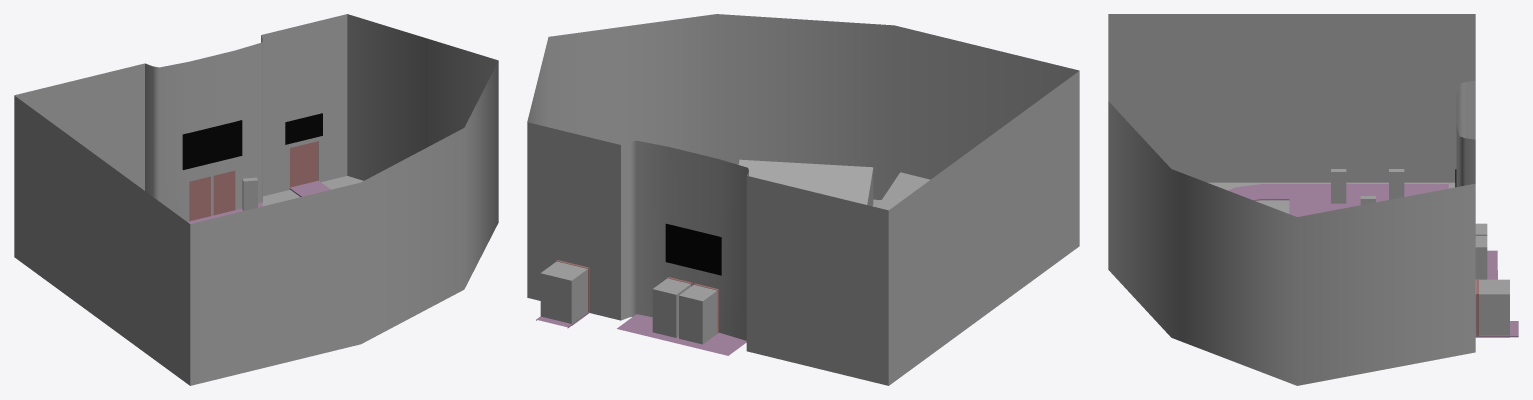
File: Mockup Set.fbx
The picture shows the model from 3 angles, left to right: view 1: azimuth 30°, elevation 25°; view 2: azimuth 150°, elevation 25°; view 3: azimuth 270°, elevation 25°; orthographic projection. The views are drawn at different scales.
Parts seen in each view (by area): view 1: Mockup_Set_Walls, Mockup_Set_Main_Screen, Mockup_Set_Back_Door, Mockup_Set_Right_Door, Mockup_Set_Left_Door, Mockup_Set_Back_Screen, Mockup_Set_Moving_Path, Host_Pos; view 2: Mockup_Set_Walls, Audience_Pos_2, Mockup_Set_Main_Screen, Mockup_Set_Moving_Path, Audience_Pos_1; view 3: Mockup_Set_Walls, Mockup_Set_Moving_Path, NPC_Pos_Mini_Game_1, NPC_Pos_Mini_Game_2.
Part boxes in pixels (x1=…): Mockup_Set_Walls: x1=14, y1=14, x2=498, y2=385; Mockup_Set_Main_Screen: x1=182, y1=120, x2=242, y2=169; Mockup_Set_Back_Door: x1=290, y1=141, x2=318, y2=187; Mockup_Set_Right_Door: x1=213, y1=170, x2=235, y2=215; Mockup_Set_Left_Door: x1=189, y1=176, x2=210, y2=221; Mockup_Set_Back_Screen: x1=285, y1=113, x2=322, y2=144; Mockup_Set_Moving_Path: x1=188, y1=180, x2=330, y2=223; Host_Pos: x1=242, y1=177, x2=257, y2=210; Mockup_Set_Walls: x1=527, y1=14, x2=1079, y2=385; Audience_Pos_2: x1=738, y1=159, x2=873, y2=206; Mockup_Set_Main_Screen: x1=665, y1=223, x2=721, y2=275; Mockup_Set_Moving_Path: x1=536, y1=311, x2=746, y2=355; Audience_Pos_1: x1=877, y1=172, x2=930, y2=210; Mockup_Set_Walls: x1=1108, y1=14, x2=1509, y2=385; Mockup_Set_Moving_Path: x1=1228, y1=184, x2=1518, y2=337; NPC_Pos_Mini_Game_1: x1=1331, y1=169, x2=1346, y2=203; NPC_Pos_Mini_Game_2: x1=1389, y1=169, x2=1404, y2=199.
Size of the model in its own units: 52.68 by 20.41 by 44.96.
